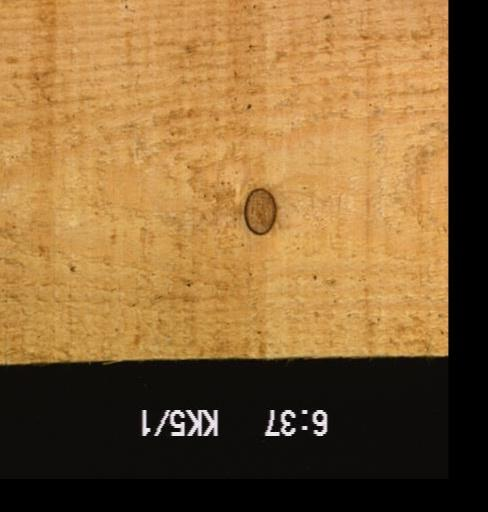dry_knot: (241, 186, 277, 235)
